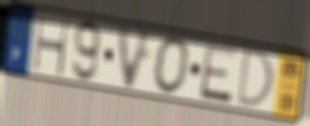9: (70, 19, 103, 85)
D: (234, 47, 276, 110)
E: (197, 42, 240, 106)
H: (31, 12, 71, 79)
O: (152, 34, 192, 97)
V: (115, 23, 156, 93)
